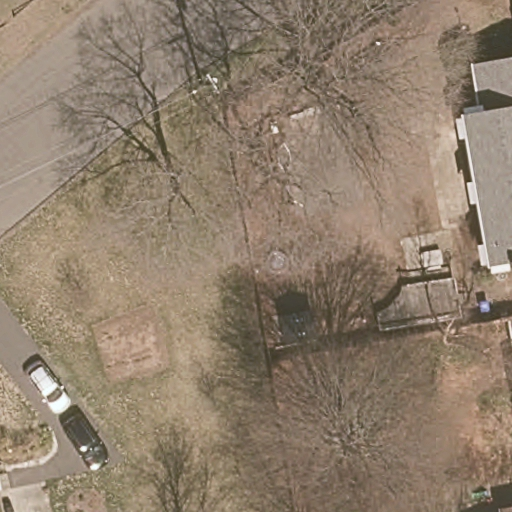DT: (204, 71, 220, 95)
